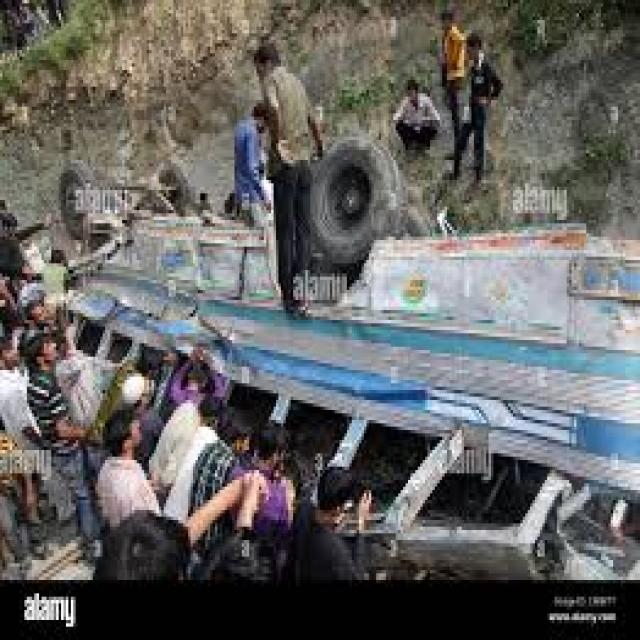Accident: (0, 141, 638, 570)
